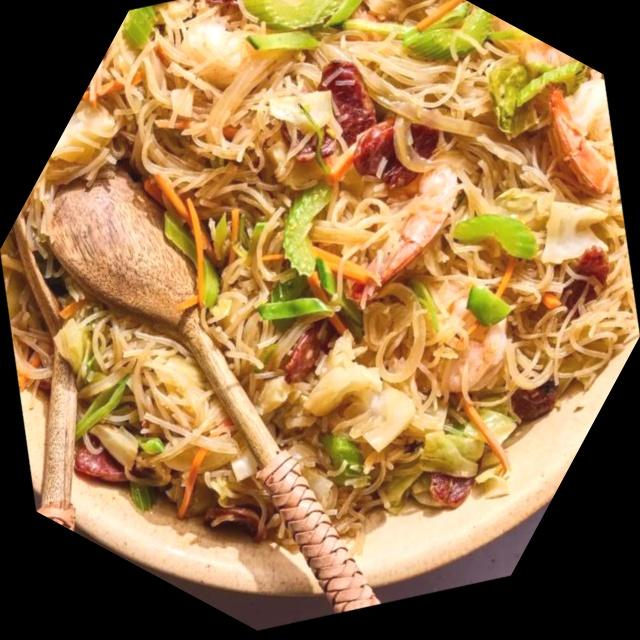pancit bihon: (0, 0, 639, 534)
